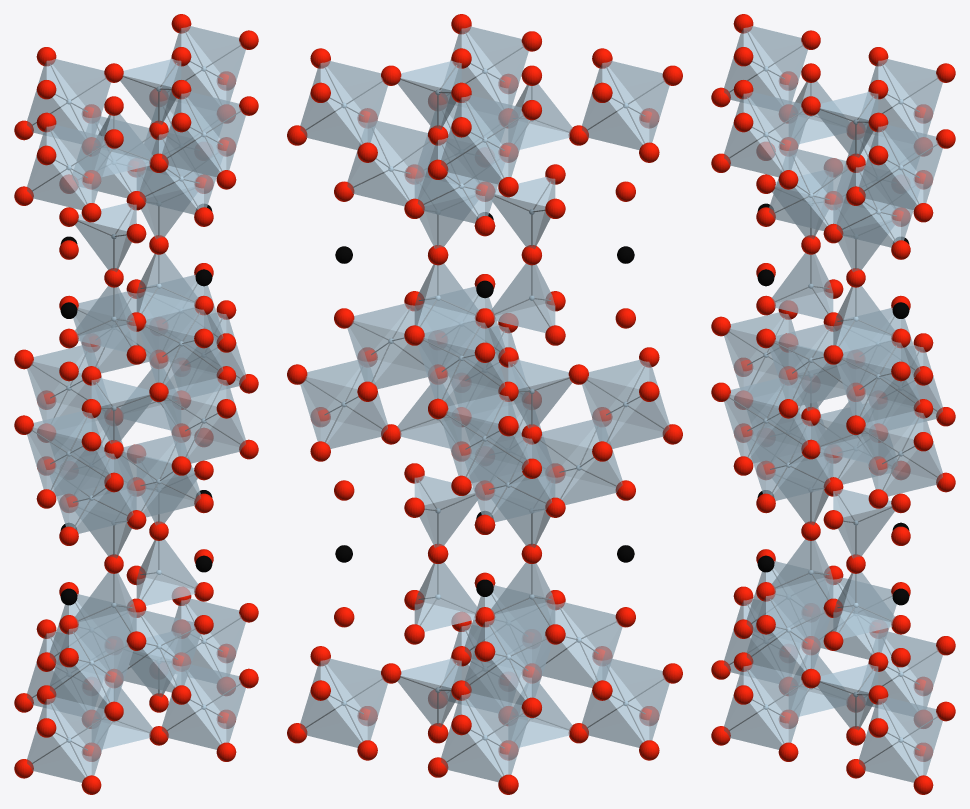
Rendered from beta-alumina.fbx.
3 renders of one model, left to right at view 1: azimuth 30°, elevation 25°; view 2: azimuth 150°, elevation 25°; view 3: azimuth 270°, elevation 25°, orthographic. The views are drawn at different scales.
Parts seen in each view (by area): view 1: Shape_IndexedFaceSet.216, Shape_IndexedFaceSet.232, Shape_IndexedFaceSet.224, Shape_IndexedFaceSet.240, Shape_IndexedFaceSet.001, Shape_IndexedFaceSet.032, Shape_IndexedFaceSet.064, Shape_IndexedFaceSet.017, Shape_IndexedFaceSet.072, Shape_IndexedFaceSet.040, Shape_IndexedFaceSet.056, Shape_IndexedFaceSet.088 (+116 smaller); view 2: Shape_IndexedFaceSet.226, Shape_IndexedFaceSet.243, Shape_IndexedFaceSet.219, Shape_IndexedFaceSet.234, Shape_IndexedFaceSet.023, Shape_IndexedFaceSet.093, Shape_IndexedFaceSet.069, Shape_IndexedFaceSet.015, Shape_IndexedFaceSet.031, Shape_IndexedFaceSet.085, Shape_IndexedFaceSet.053, Shape_IndexedFaceSet.061 (+128 smaller); view 3: Shape_IndexedFaceSet.235, Shape_IndexedFaceSet.217, Shape_IndexedFaceSet.241, Shape_IndexedFaceSet.227, Shape_IndexedFaceSet.010, Shape_IndexedFaceSet.002, Shape_IndexedFaceSet.038, Shape_IndexedFaceSet.046, Shape_IndexedFaceSet.054, Shape_IndexedFaceSet.062, Shape_IndexedFaceSet.078, Shape_IndexedFaceSet.094 (+116 smaller).
Part boxes in pixels (<box>): Shape_IndexedFaceSet.216: <box>75,286,133,352</box>; Shape_IndexedFaceSet.232: <box>139,253,197,319</box>; Shape_IndexedFaceSet.224: <box>139,539,197,605</box>; Shape_IndexedFaceSet.240: <box>75,572,133,638</box>; Shape_IndexedFaceSet.001: <box>162,394,219,458</box>; Shape_IndexedFaceSet.032: <box>188,681,245,744</box>; Shape_IndexedFaceSet.064: <box>53,714,110,777</box>; Shape_IndexedFaceSet.017: <box>27,427,84,491</box>; Shape_IndexedFaceSet.072: <box>53,141,110,204</box>; Shape_IndexedFaceSet.040: <box>188,108,245,171</box>; Shape_IndexedFaceSet.056: <box>188,42,245,101</box>; Shape_IndexedFaceSet.088: <box>53,75,110,134</box>; Shape_IndexedFaceSet.226: <box>417,562,478,631</box>; Shape_IndexedFaceSet.243: <box>491,562,552,631</box>; Shape_IndexedFaceSet.219: <box>491,263,552,332</box>; Shape_IndexedFaceSet.234: <box>417,263,478,332</box>; Shape_IndexedFaceSet.023: <box>582,377,642,443</box>; Shape_IndexedFaceSet.093: <box>468,112,528,178</box>; Shape_IndexedFaceSet.069: <box>609,675,669,742</box>; Shape_IndexedFaceSet.015: <box>300,377,360,443</box>; Shape_IndexedFaceSet.031: <box>441,411,501,477</box>; Shape_IndexedFaceSet.085: <box>468,710,528,776</box>; Shape_IndexedFaceSet.053: <box>327,676,387,742</box>; Shape_IndexedFaceSet.061: <box>327,78,387,144</box>; Shape_IndexedFaceSet.235: <box>836,286,894,352</box>; Shape_IndexedFaceSet.217: <box>772,253,830,319</box>; Shape_IndexedFaceSet.241: <box>772,539,830,605</box>; Shape_IndexedFaceSet.227: <box>836,572,894,638</box>; Shape_IndexedFaceSet.010: <box>859,427,916,491</box>; Shape_IndexedFaceSet.002: <box>724,394,781,458</box>; Shape_IndexedFaceSet.038: <box>750,681,807,744</box>; Shape_IndexedFaceSet.046: <box>750,108,807,171</box>; Shape_IndexedFaceSet.054: <box>885,714,942,777</box>; Shape_IndexedFaceSet.062: <box>885,141,942,204</box>; Shape_IndexedFaceSet.078: <box>750,42,807,101</box>; Shape_IndexedFaceSet.094: <box>885,75,942,134</box>.
Bounding box in the file's own units: 1182 × 2551 × 873.
